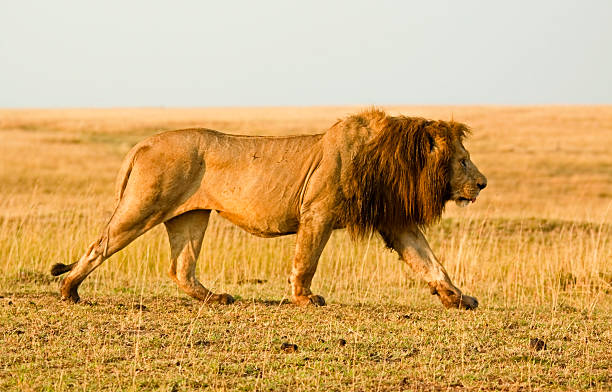lion: (350, 94, 515, 270)
